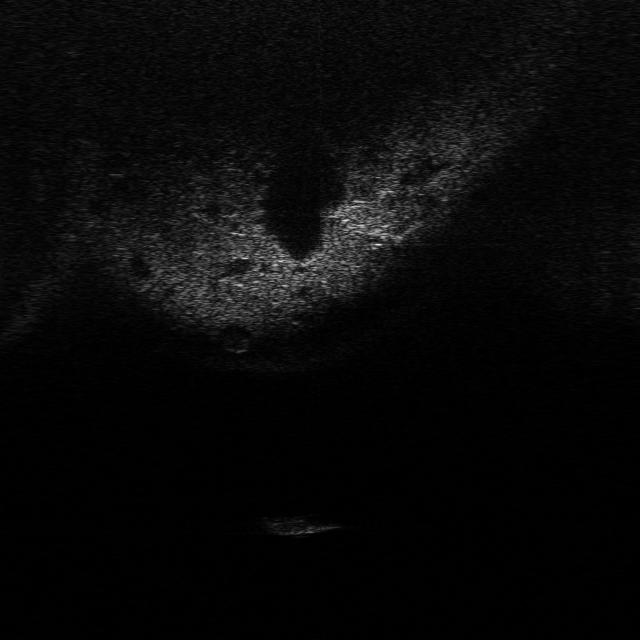cube: (258, 509, 333, 539)
